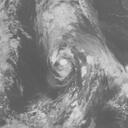cyclone: (46, 44, 79, 88)
